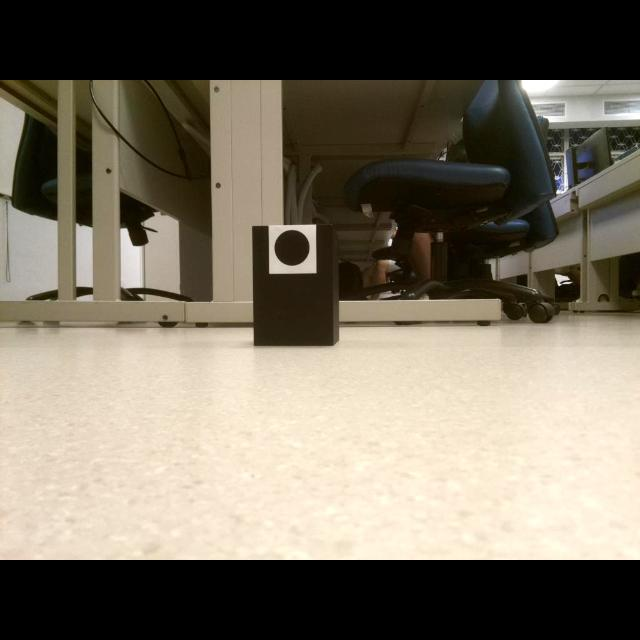CIRCLE: (274, 229, 311, 266)
